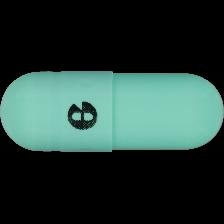68462-406: (0, 0, 224, 224)
